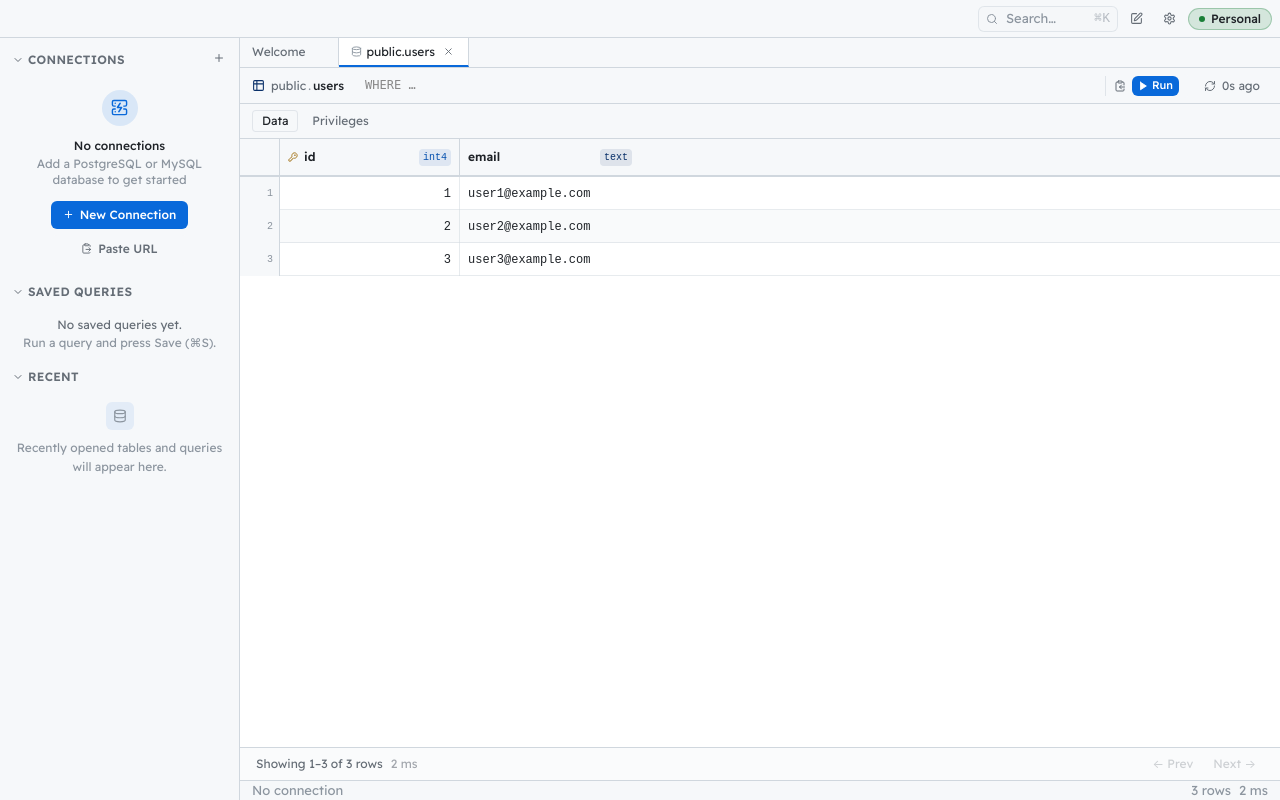
Scenario: the unsaved-edit guard › marks the tab dirty in the tab bar
Expected: the table is shown, [240,139,1279,276]
Double-click the cell "user1@example.com" at (529, 194), box [468,186,590,200]
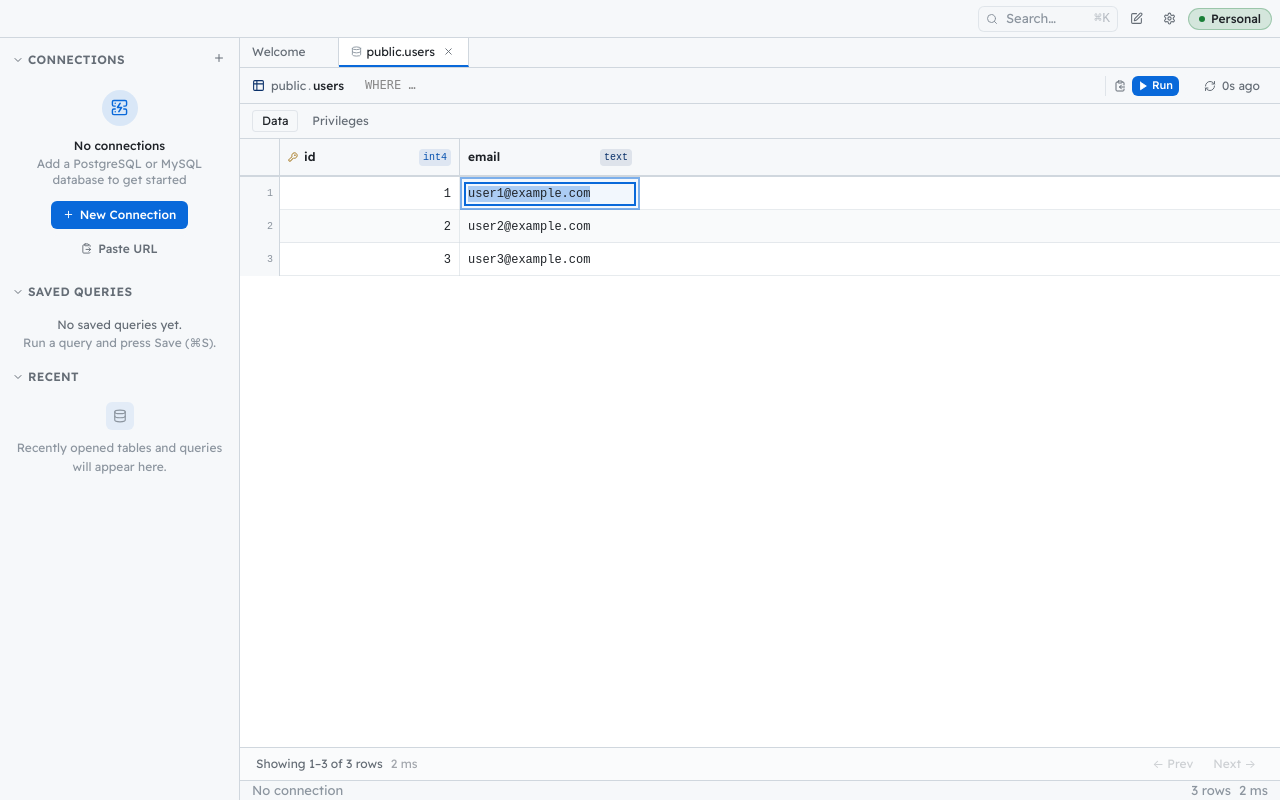
Replace the text in the field named "Edit cell value" with "ada@example.com" at (550, 194), box [468,186,632,202]
Then press Enter
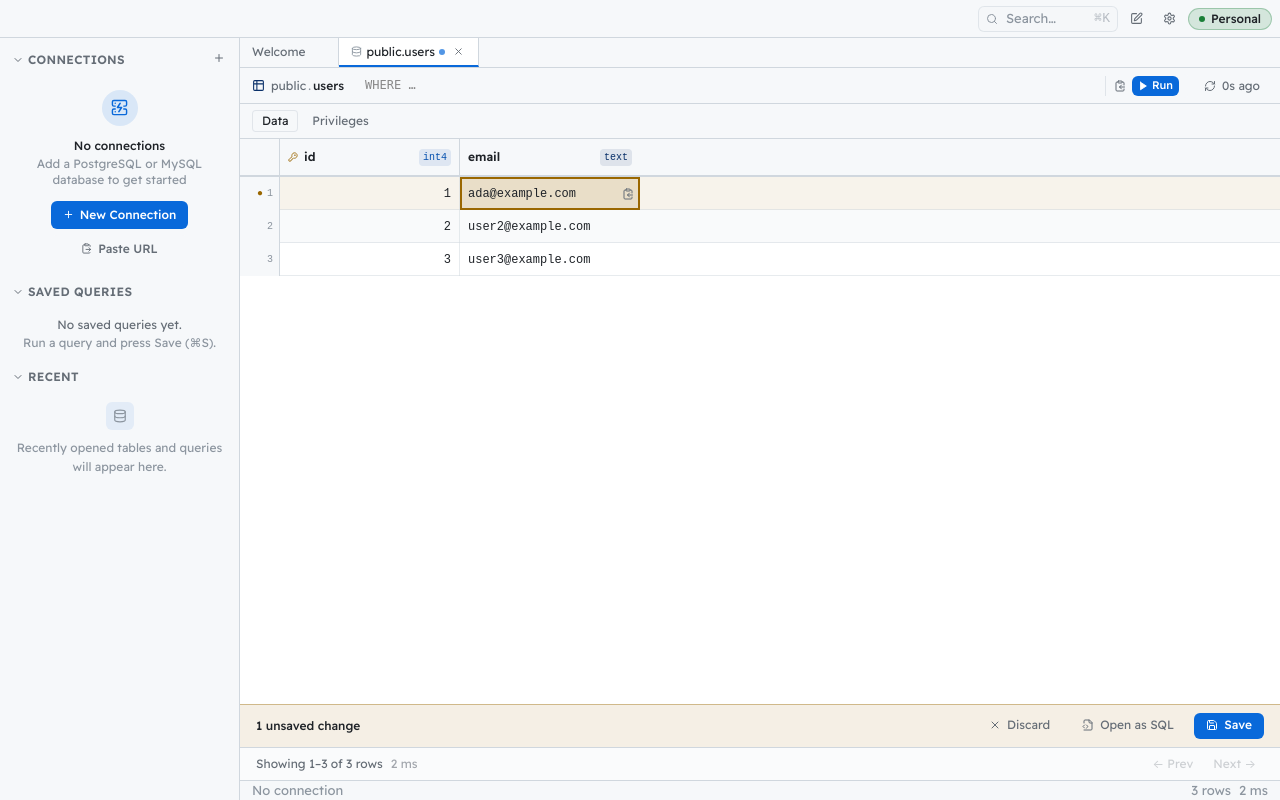
Expected: the text "1 unsaved change" is shown, [256,718,360,734]
Expected: the element named "Unsaved changes" is shown, [439,48,445,54]
